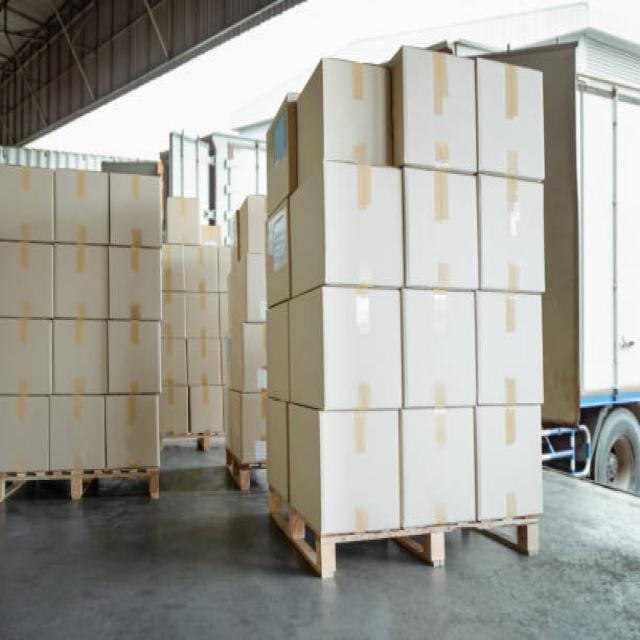Wooden-Pallets: (264, 469, 544, 583), (0, 465, 165, 509)
